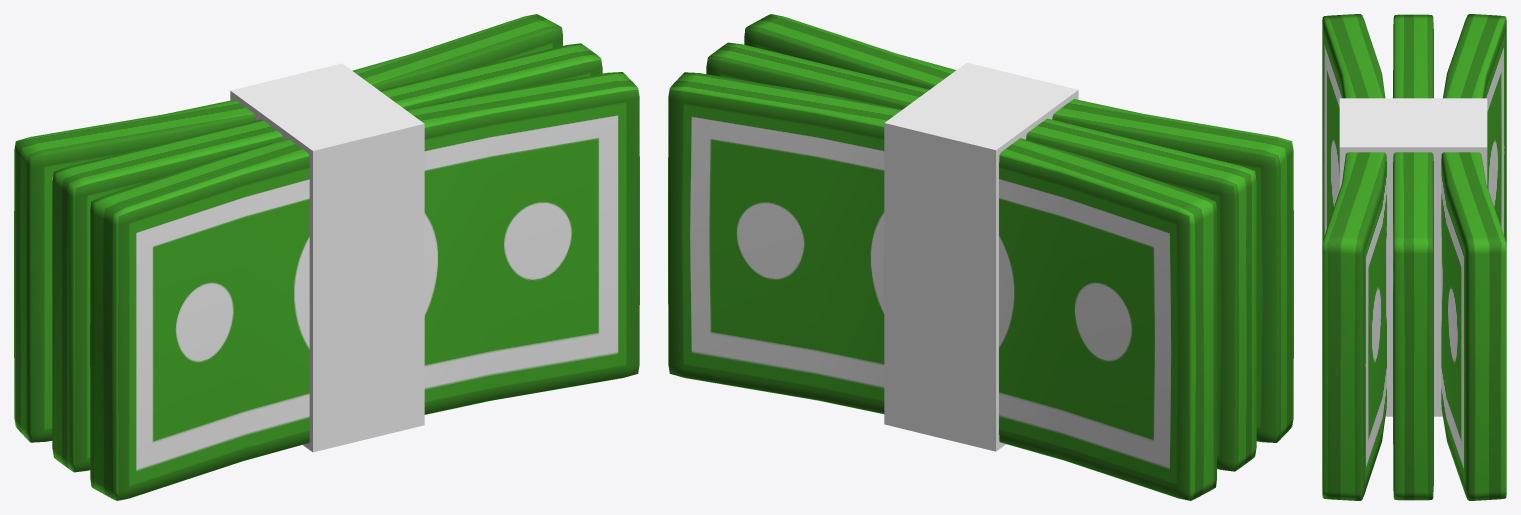
Rendered from Money.fbx.
The picture shows the model from 3 angles, left to right: view 1: azimuth 30°, elevation 25°; view 2: azimuth 150°, elevation 25°; view 3: azimuth 270°, elevation 25°; orthographic projection. The views are drawn at different scales.
Parts seen in each view (by area): view 1: Money; view 2: Money; view 3: Money.
Boxes of the visible parts, bbox=[...] form: Money: bbox=[14, 14, 639, 500]; Money: bbox=[668, 14, 1293, 500]; Money: bbox=[1322, 14, 1506, 500].
Size of the model in its own units: 0.4263 by 0.2298 by 0.1427.
